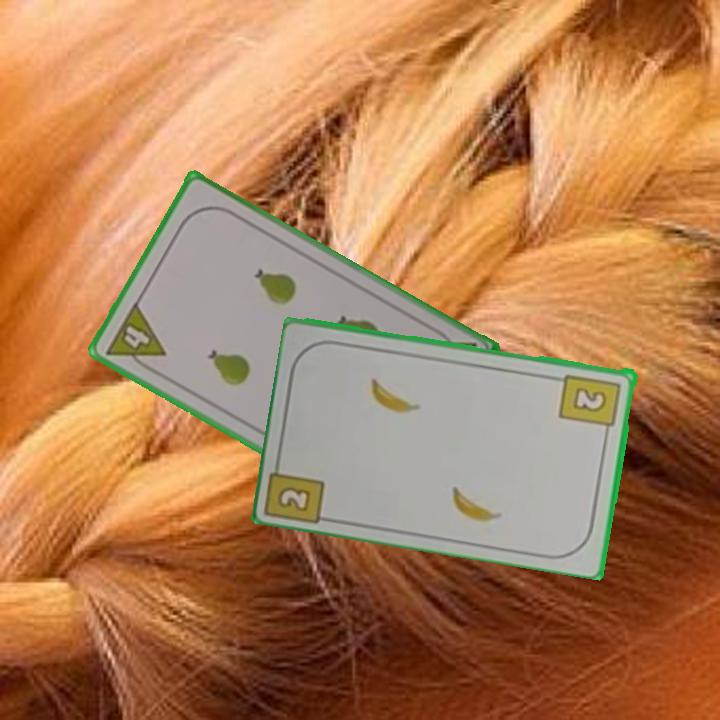2b: (556, 370, 624, 438), (274, 482, 315, 515)
4p: (101, 298, 169, 377)
